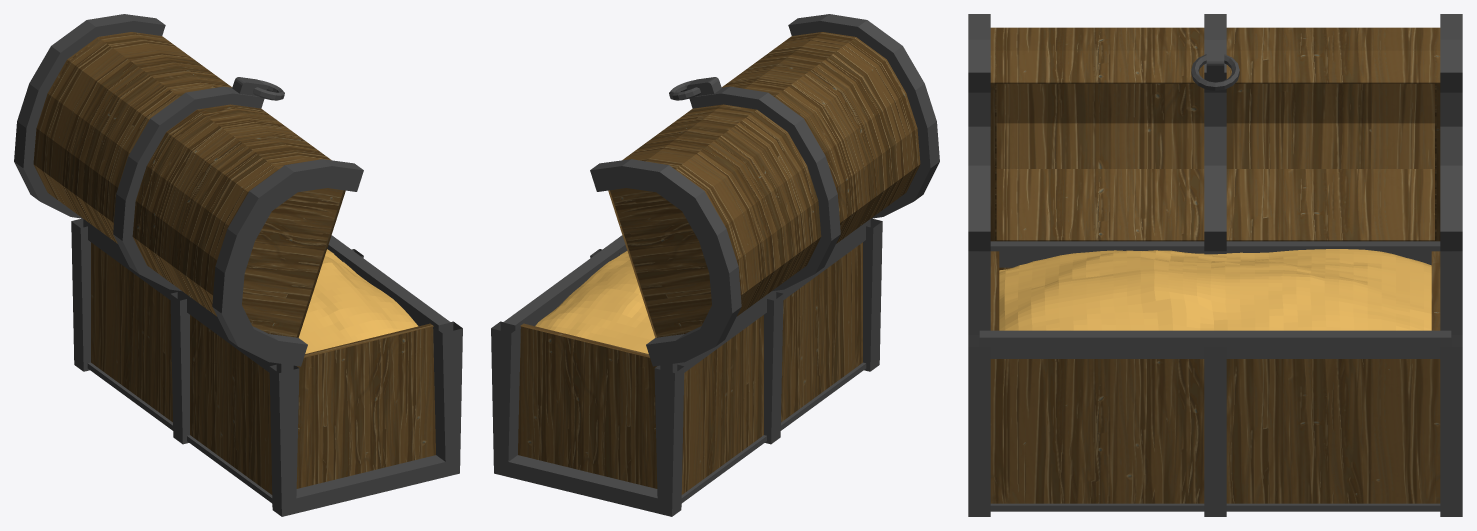
The model's file is Treasure Chest.glb.
3 renders of one model, left to right at view 1: azimuth 30°, elevation 25°; view 2: azimuth 150°, elevation 25°; view 3: azimuth 270°, elevation 25°, orthographic. The views are drawn at different scales.
Parts seen in each view (by area): view 1: Treasure Chest; view 2: Treasure Chest; view 3: Treasure Chest.
Boxes of the visible parts, bbox=[...] form: Treasure Chest: bbox=[14, 14, 462, 516]; Treasure Chest: bbox=[491, 14, 939, 516]; Treasure Chest: bbox=[968, 14, 1462, 516].
Size of what is drawn, in the model's own units: 2.09 by 2.86 by 3.12.
Materials: 3 (1 with a texture image).
